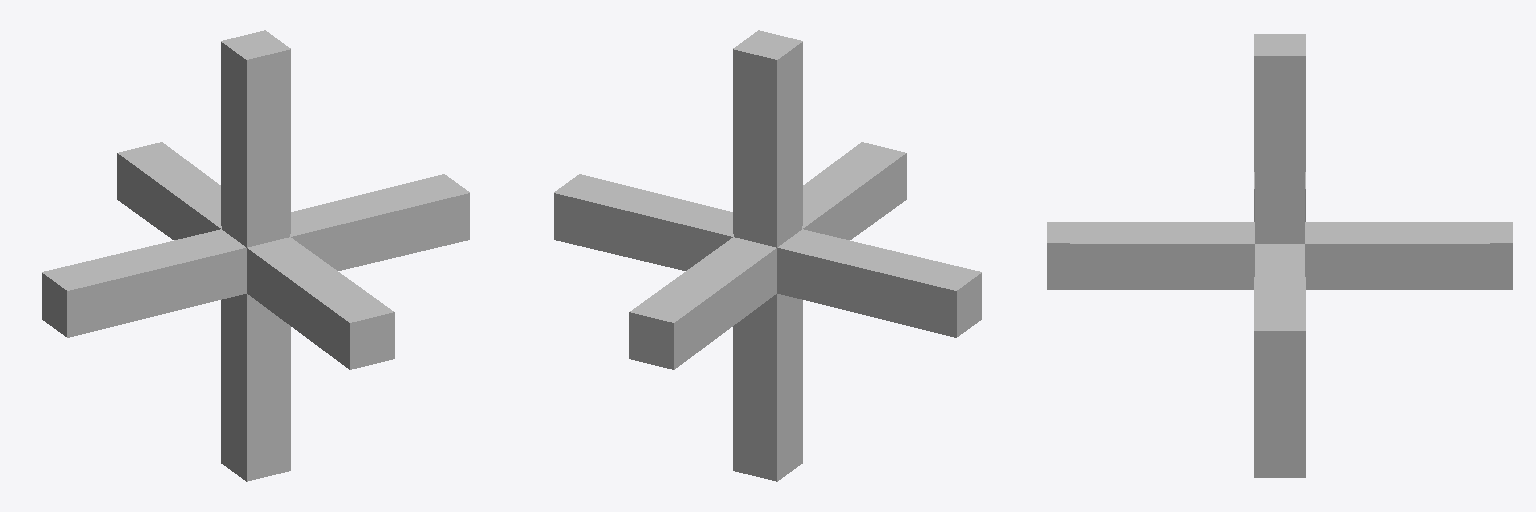
File: cursorPause.obj
3 views of the same model, side by side, from view 1: azimuth 30°, elevation 25°; view 2: azimuth 150°, elevation 25°; view 3: azimuth 270°, elevation 25° (orthographic).
Bounding box in the file's own units: 0.553 × 0.553 × 0.553.